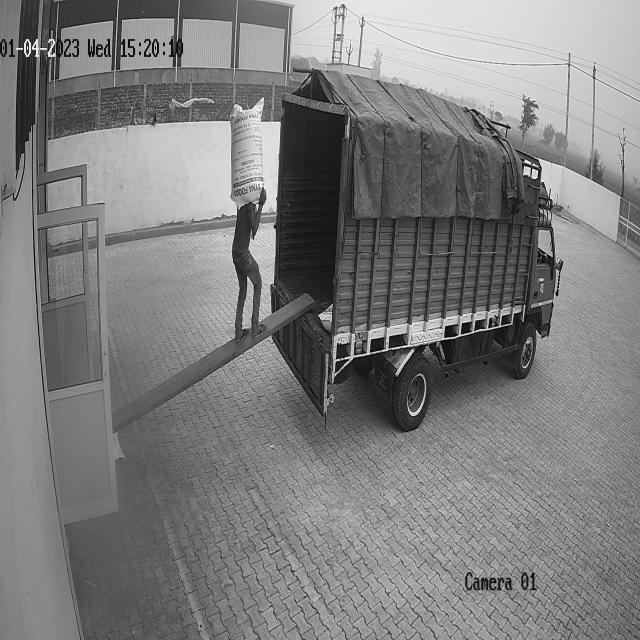sack: (230, 98, 264, 208)
